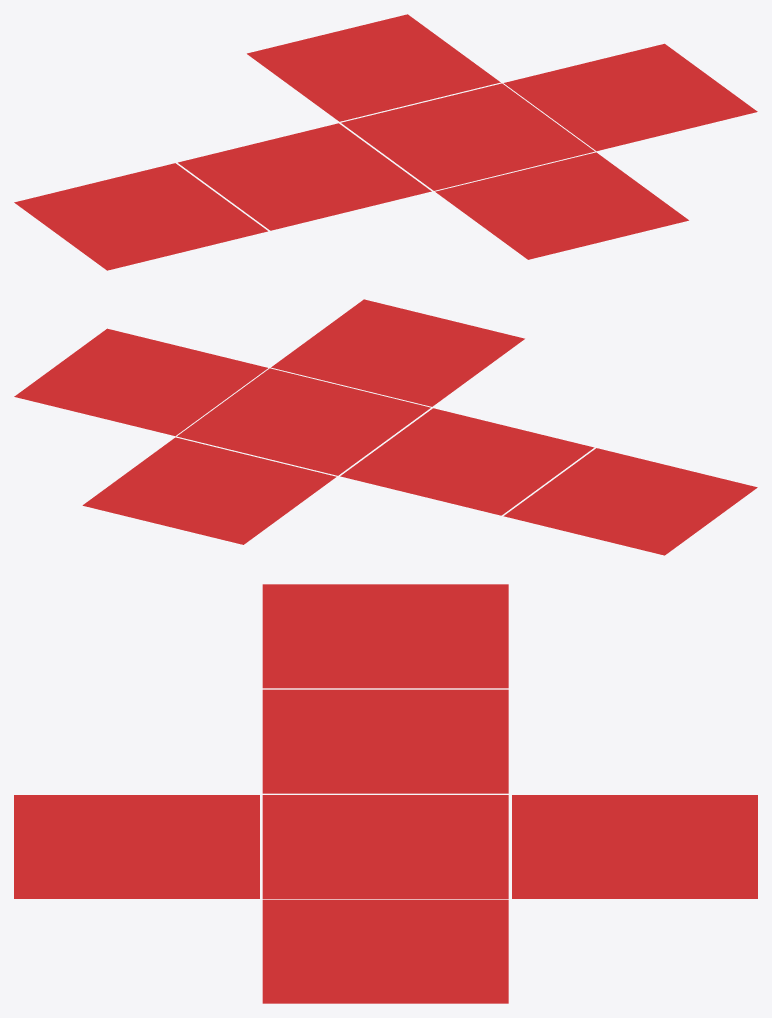
The model's file is animasi-jaring.glb.
3 views of the same model, one above another, from view 1: azimuth 30°, elevation 25°; view 2: azimuth 150°, elevation 25°; view 3: azimuth 270°, elevation 25° (orthographic). The views are drawn at different scales.
Parts seen in each view (by area): view 1: Atas, Bawah, Belakang, Kanan, Depan, Kiri; view 2: Kanan, Depan, Atas, Kiri, Belakang, Bawah; view 3: Belakang, Depan, Atas, Bawah, Kiri, Kanan.
Boxes of the visible parts, bbox=[...] form: Atas: bbox=[14, 163, 267, 270]; Bawah: bbox=[341, 83, 594, 190]; Belakang: bbox=[178, 123, 431, 230]; Kanan: bbox=[247, 14, 500, 121]; Depan: bbox=[503, 43, 757, 151]; Kiri: bbox=[435, 152, 688, 259]; Kanan: bbox=[82, 437, 336, 544]; Depan: bbox=[14, 328, 267, 436]; Atas: bbox=[503, 448, 757, 555]; Kiri: bbox=[271, 299, 524, 406]; Belakang: bbox=[340, 408, 594, 515]; Bawah: bbox=[177, 368, 430, 475]; Belakang: bbox=[262, 689, 508, 793]; Depan: bbox=[262, 899, 508, 1003]; Atas: bbox=[262, 584, 508, 688]; Bawah: bbox=[262, 795, 508, 898]; Kiri: bbox=[14, 795, 259, 898]; Kanan: bbox=[512, 795, 757, 898].
Size of the model in its own units: 8.06 by 1.51e-07 by 6.05.
